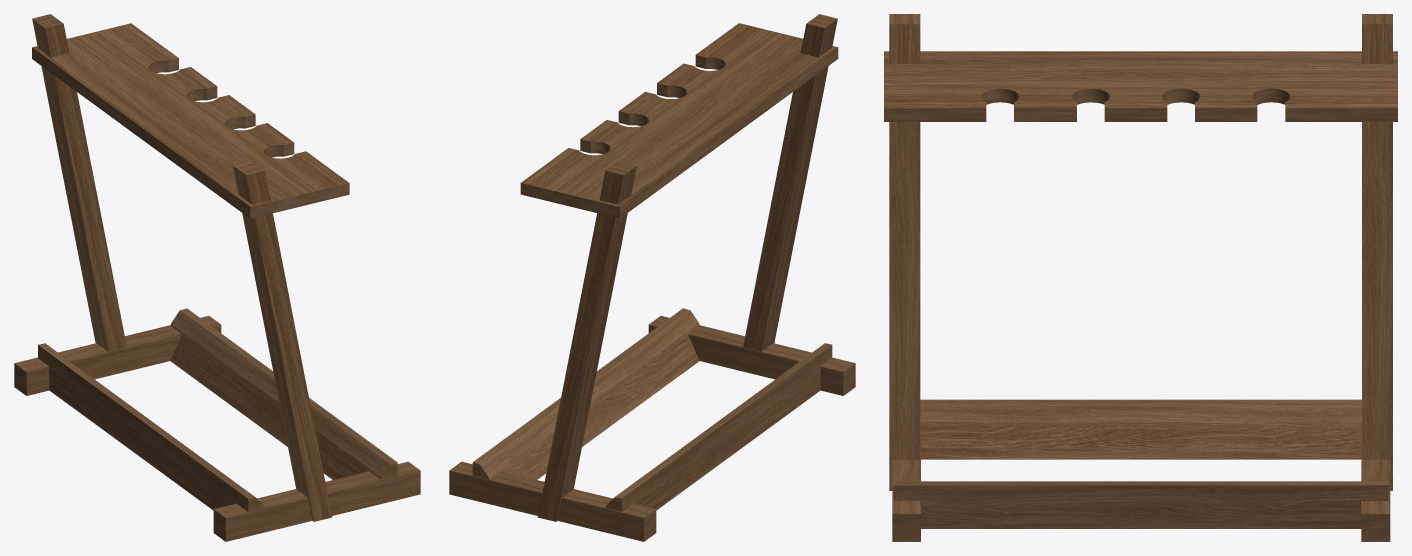
Rendered from gibson_stand.min.glb.
3 renders of one model, left to right at view 1: azimuth 30°, elevation 25°; view 2: azimuth 150°, elevation 25°; view 3: azimuth 270°, elevation 25°, orthographic. The views are drawn at different scales.
Parts seen in each view (by area): view 1: Cube.001; view 2: Cube.001; view 3: Cube.001.
Part boxes in pixels (left/top/right/bottom): Cube.001: left=14, top=14, right=420, bottom=541; Cube.001: left=449, top=14, right=855, bottom=541; Cube.001: left=884, top=14, right=1397, bottom=541.
Bounding box in the file's own units: 2 × 3.57 × 3.88.
Materials: 4 (4 with a texture image).
